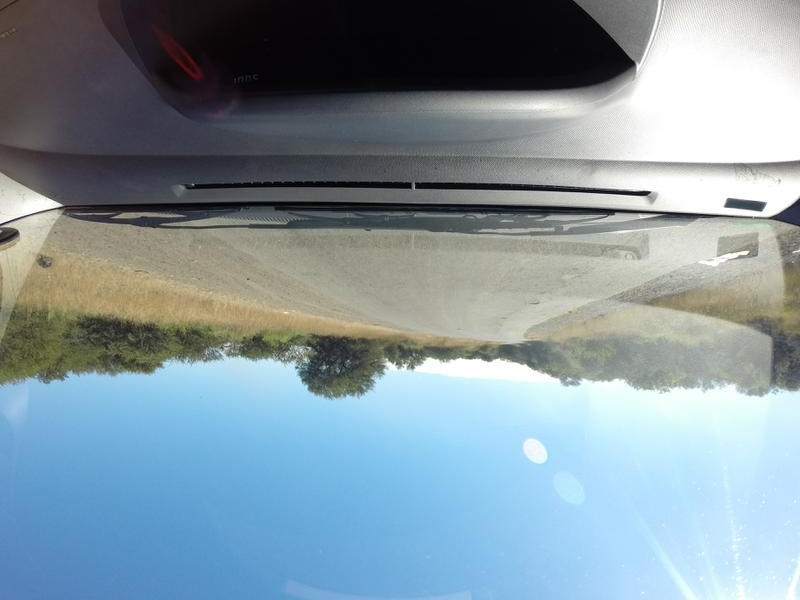pothole: (522, 295, 548, 309)
